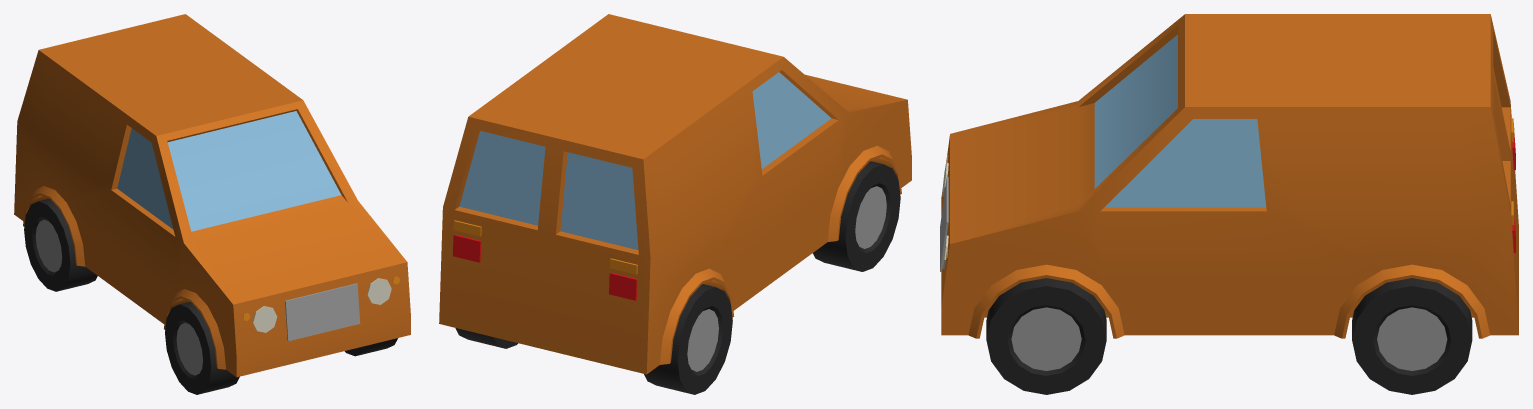
File: car-microcargo-orange.gltf
The picture shows the model from 3 angles, left to right: view 1: azimuth 30°, elevation 25°; view 2: azimuth 150°, elevation 25°; view 3: azimuth 270°, elevation 25°; orthographic projection. The views are drawn at different scales.
Visible parts, largest first — view 1: car-microcargo-orange_Cube.613; view 2: car-microcargo-orange_Cube.613; view 3: car-microcargo-orange_Cube.613.
Part boxes in pixels (x1,y1,x2,y2): car-microcargo-orange_Cube.613: (14, 14, 410, 394); car-microcargo-orange_Cube.613: (439, 14, 911, 394); car-microcargo-orange_Cube.613: (940, 14, 1518, 394).
Size of the model in its own units: 1.79 by 1.9 by 3.64.
